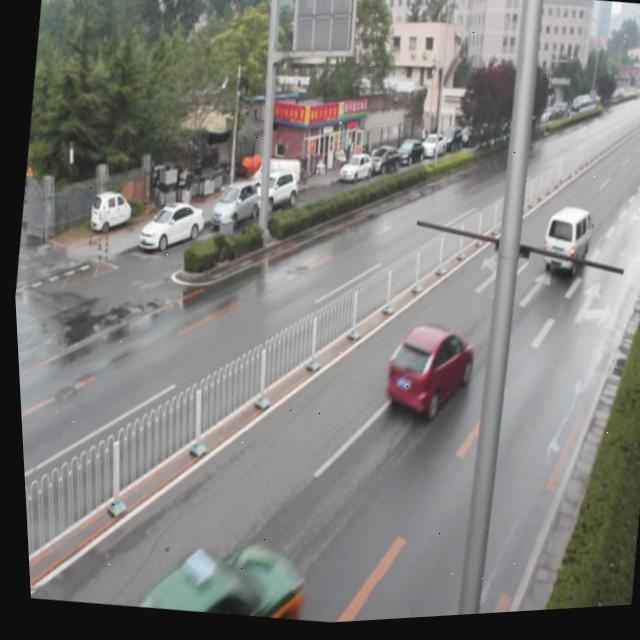car: (373, 322, 473, 435)
truck: (534, 205, 591, 284)
